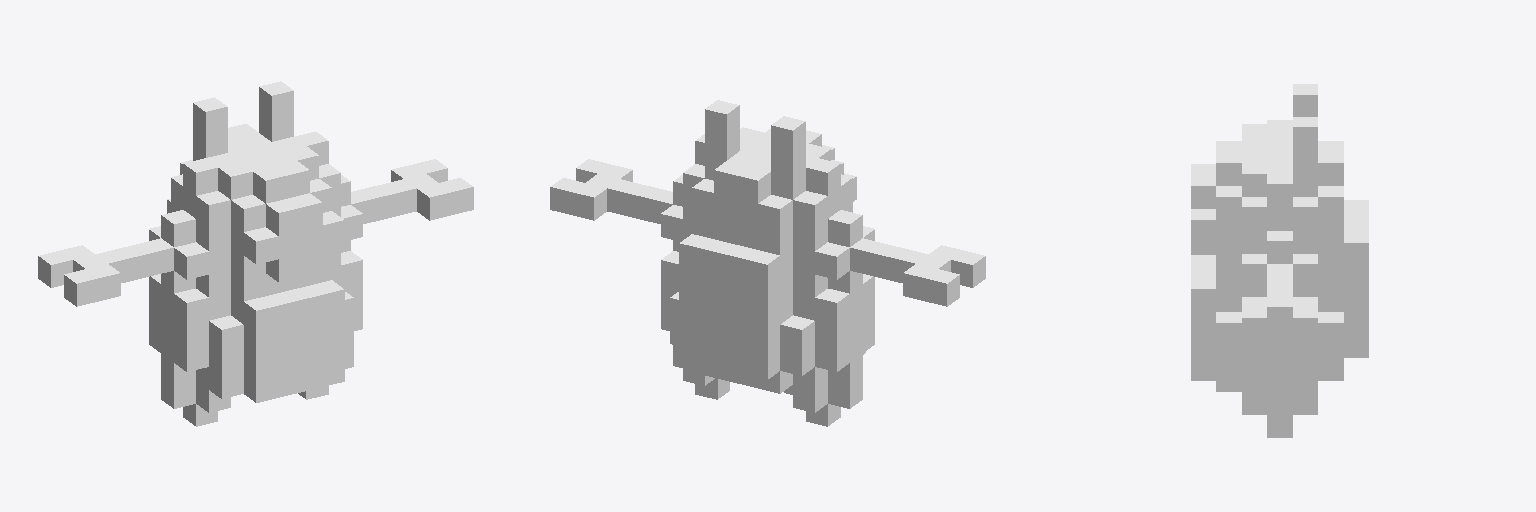
The model's file is slowbot.obj.
3 views of the same model, side by side, from view 1: azimuth 30°, elevation 25°; view 2: azimuth 150°, elevation 25°; view 3: azimuth 270°, elevation 25° (orthographic).
Parts seen in each view (by area): view 1: object 1; view 2: object 1; view 3: object 1.
Boxes of the visible parts, box(x1,y1,x2,y2) form: object 1: box(38, 81, 473, 426); object 1: box(550, 100, 985, 426); object 1: box(1191, 84, 1368, 437).
Size of the model in its own units: 1.8 by 1.3 by 0.7.